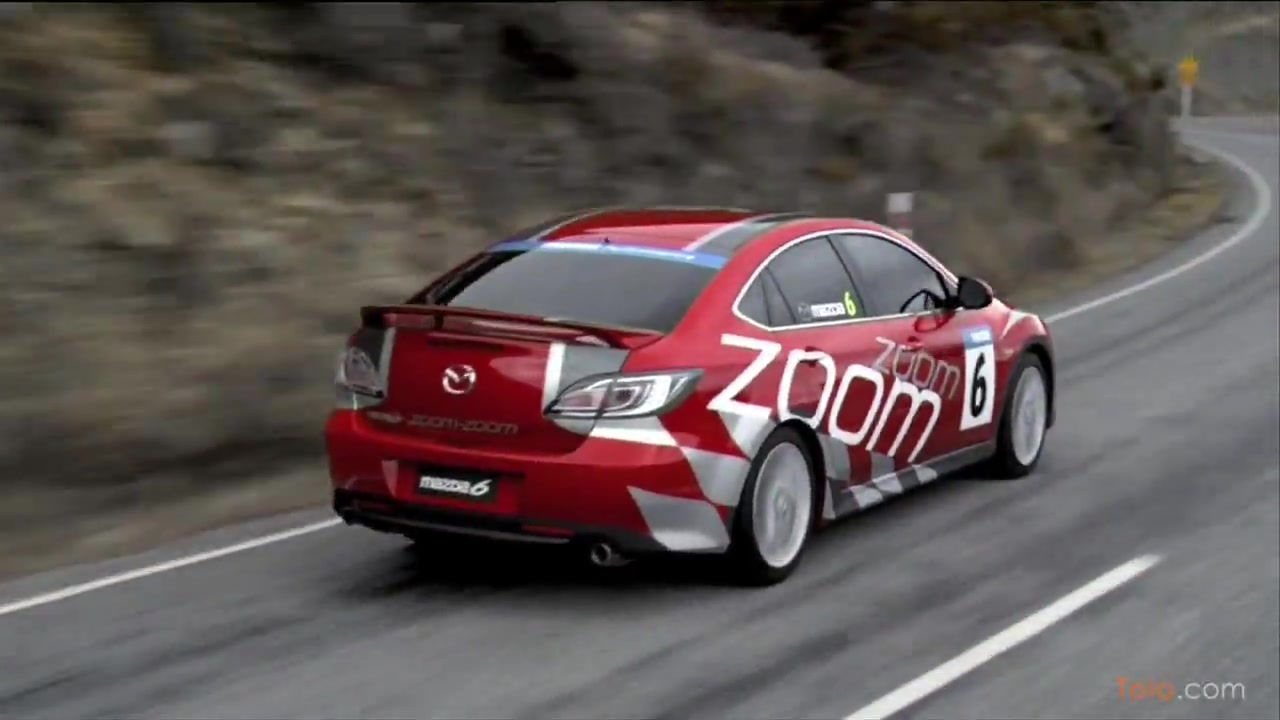car: (324, 202, 1060, 596)
